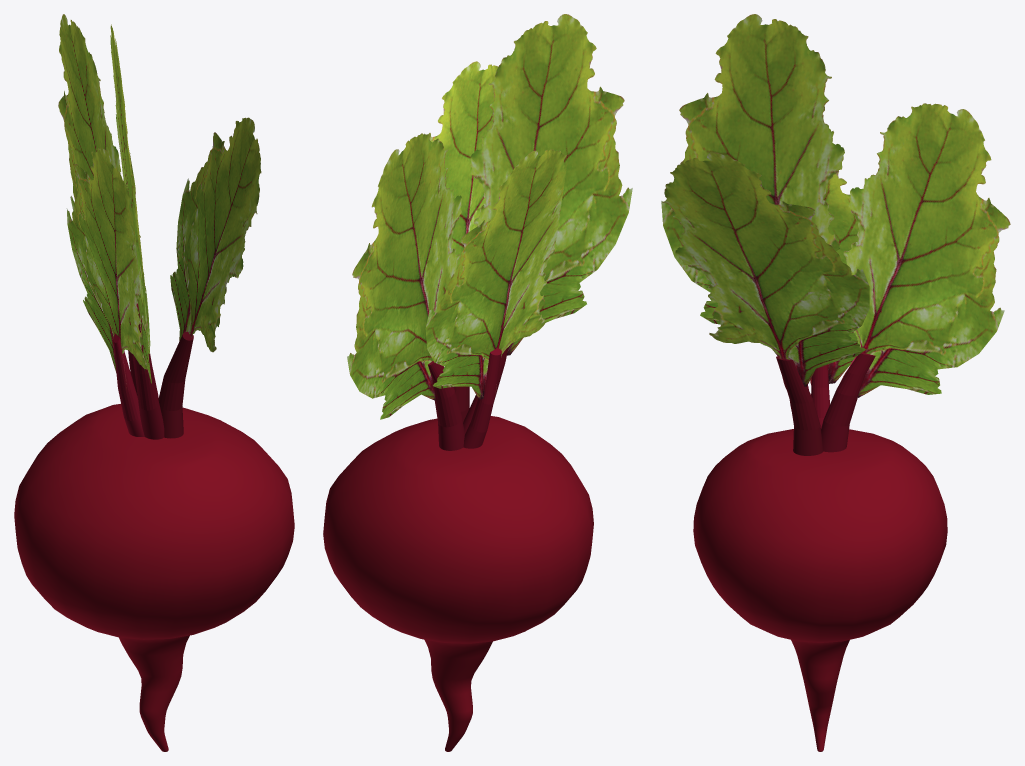
File: reddish.fbx
3 views of the same model, side by side, from view 1: azimuth 30°, elevation 25°; view 2: azimuth 150°, elevation 25°; view 3: azimuth 270°, elevation 25° (orthographic). The views are drawn at different scales.
Visible parts, largest first — view 1: pSphere1, pPlane4, pPlane3, pPlane1, pPlane2, polySurface2, polySurface3, polySurface4; view 2: pSphere1, pPlane2, pPlane1, pPlane3, pPlane4, polySurface1, polySurface4; view 3: pSphere1, pPlane1, pPlane4, pPlane2, polySurface1, polySurface2, pPlane3, polySurface4.
Part boxes in pixels (x1,y1,x2,y2): pSphere1: (14, 404, 294, 751); pPlane4: (170, 117, 261, 370); pPlane3: (66, 148, 147, 389); pPlane1: (58, 14, 144, 274); pPlane2: (110, 24, 151, 383); polySurface2: (158, 331, 193, 438); polySurface3: (134, 303, 164, 439); polySurface4: (113, 333, 144, 436); pSphere1: (323, 416, 593, 751); pPlane2: (452, 14, 632, 355); pPlane1: (347, 133, 462, 419); pPlane3: (425, 149, 566, 399); pPlane4: (429, 61, 497, 268); polySurface1: (428, 361, 464, 450); polySurface4: (463, 348, 501, 448); pSphere1: (693, 429, 947, 751); pPlane1: (840, 103, 1010, 397); pPlane4: (662, 152, 869, 388); pPlane2: (661, 14, 844, 355); polySurface1: (821, 352, 875, 452); polySurface2: (776, 356, 822, 455); pPlane3: (810, 170, 858, 384); polySurface4: (811, 364, 829, 428).
Bounding box in the file's own units: 4.88 × 14.35 × 6.5.
